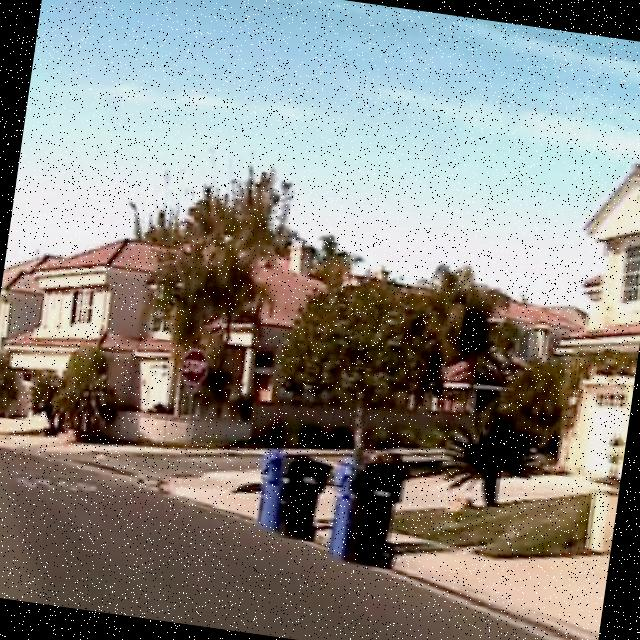Stop: (178, 346, 212, 391)
